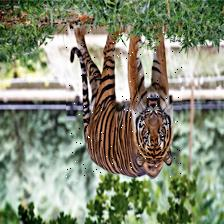tiger: (66, 29, 182, 180)
